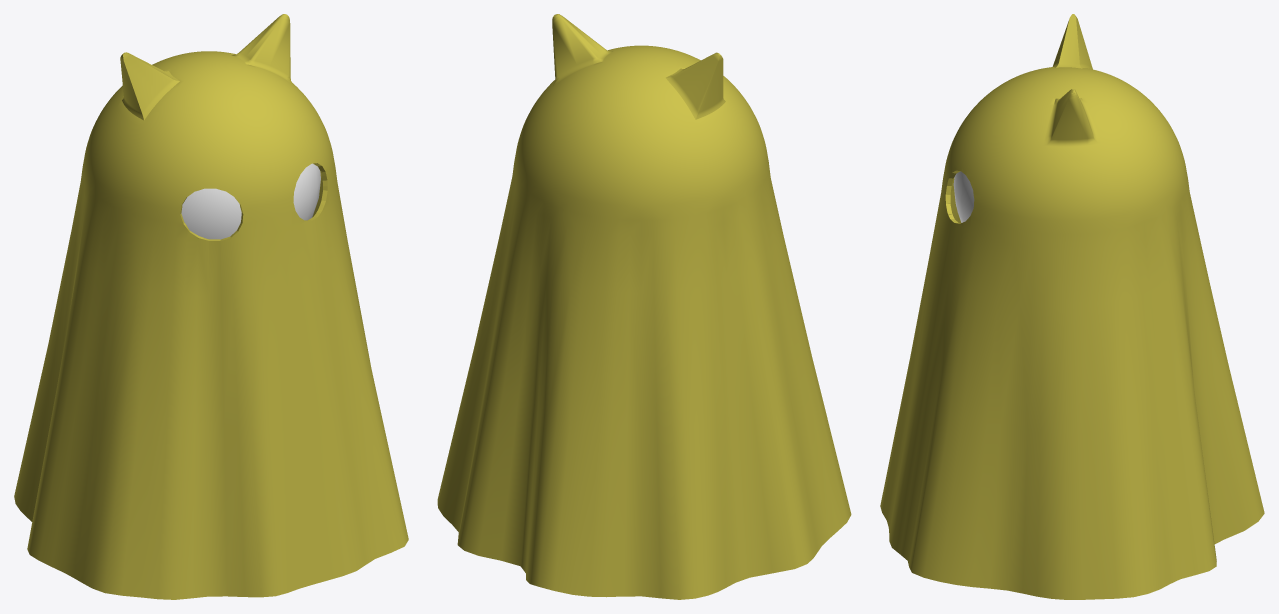
Rendered from newcatghost.fbx.
3 renders of one model, left to right at view 1: azimuth 30°, elevation 25°; view 2: azimuth 150°, elevation 25°; view 3: azimuth 270°, elevation 25°, orthographic. The views are drawn at different scales.
Visible parts, largest first — view 1: Capsule001, Sphere001; view 2: Capsule001; view 3: Capsule001, Sphere001.
Part boxes in pixels (x1=…): Capsule001: x1=14, y1=14, x2=408, y2=599; Sphere001: x1=181, y1=163, x2=320, y2=239; Capsule001: x1=437, y1=14, x2=851, y2=599; Capsule001: x1=880, y1=14, x2=1264, y2=599; Sphere001: x1=953, y1=171, x2=974, y2=222.
Size of the model in its own units: 1571 by 2149 by 1576.
